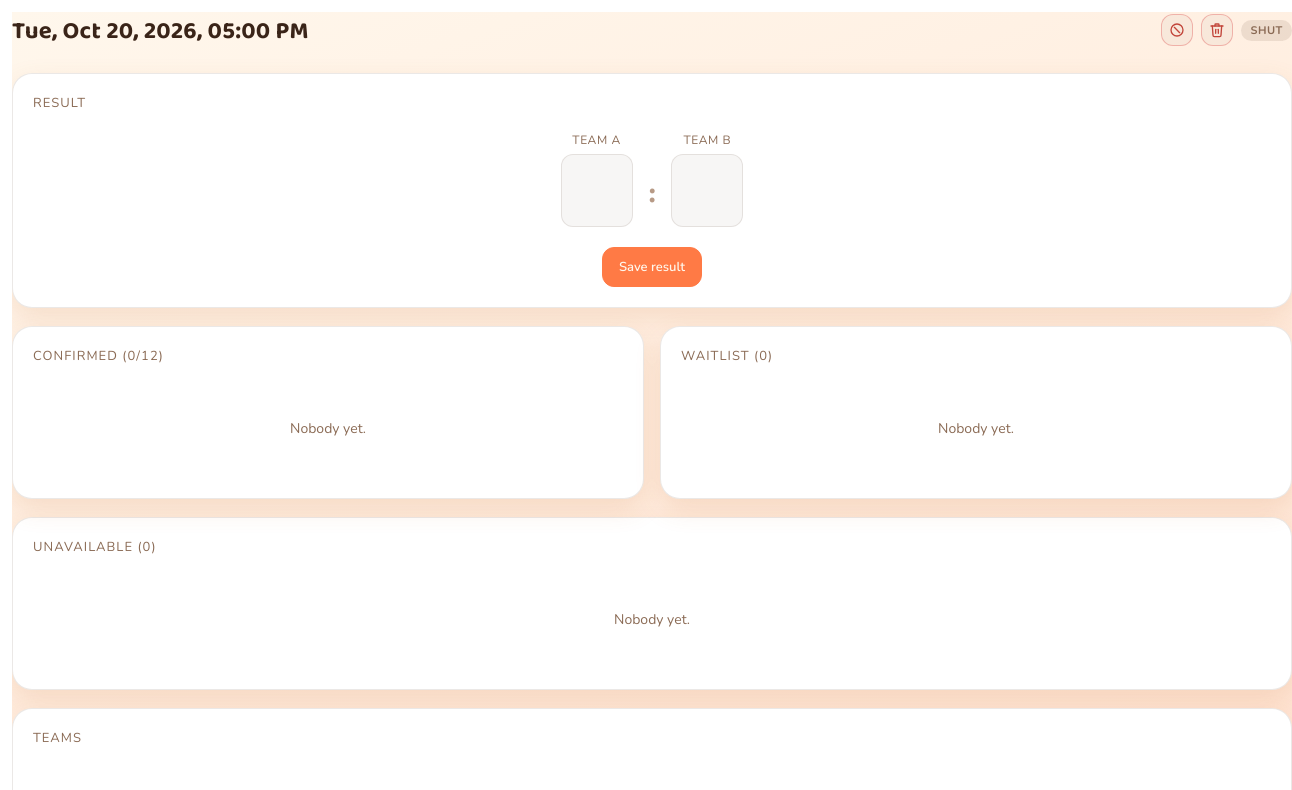
GamedayDetail - result entry (admin) › shows the server's error when saving fails
The image size is (1292, 790).
Check: the text "Result" is shown, box [33, 94, 86, 112]
Click the button "Save result" at (652, 267), box [602, 247, 702, 287]
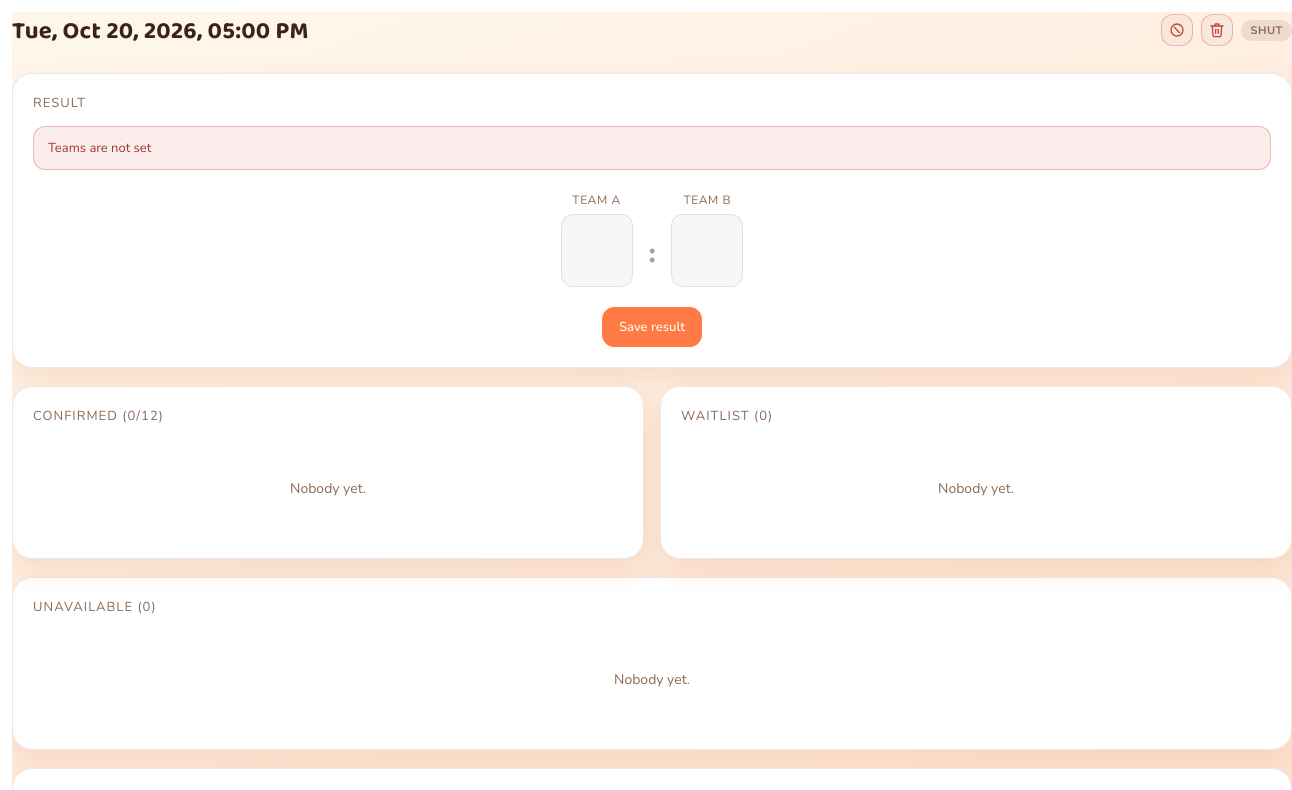
Check: the text "Teams are not set" is shown, box [33, 126, 1271, 170]
